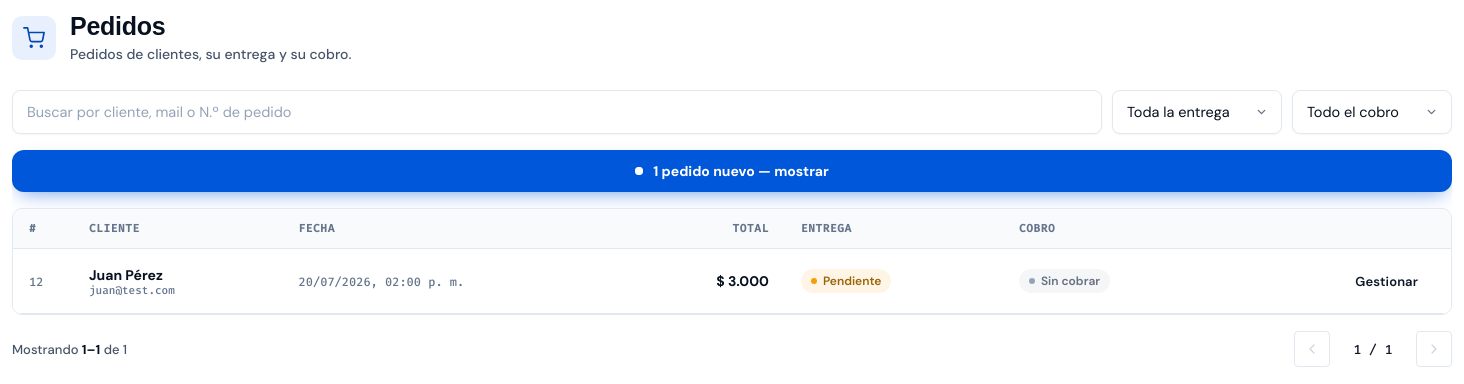
it: AdminOrdersPage — pedidos que entran en vivo › al apretar el aviso recarga y el cartel desaparece
Expected: the text "Juan Pérez" is shown, [89, 266, 163, 284]
Click the button "1 pedido nuevo — mostrar" at {"x": 732, "y": 171}, box [12, 150, 1452, 192]
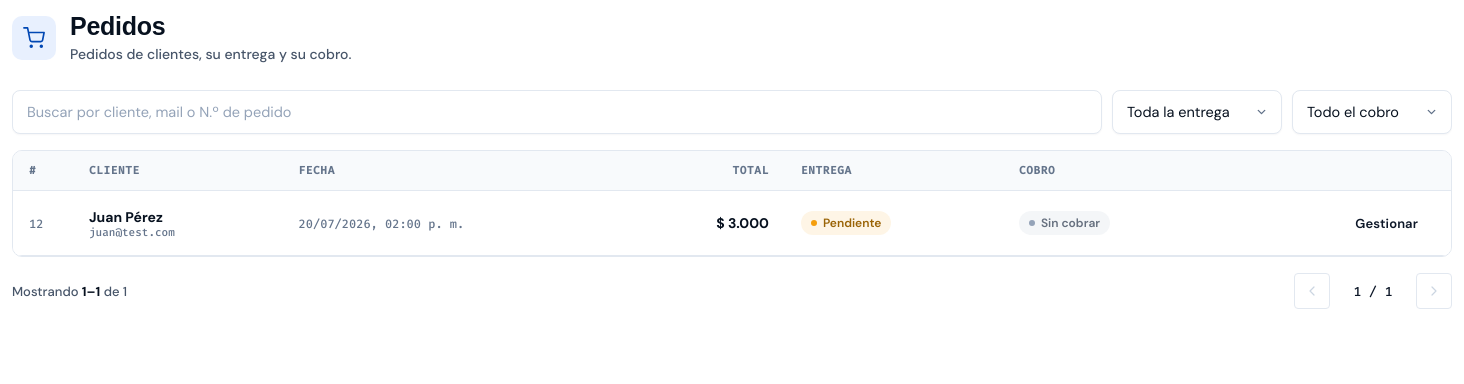
Expected: the button "pedido nuevo" is gone
